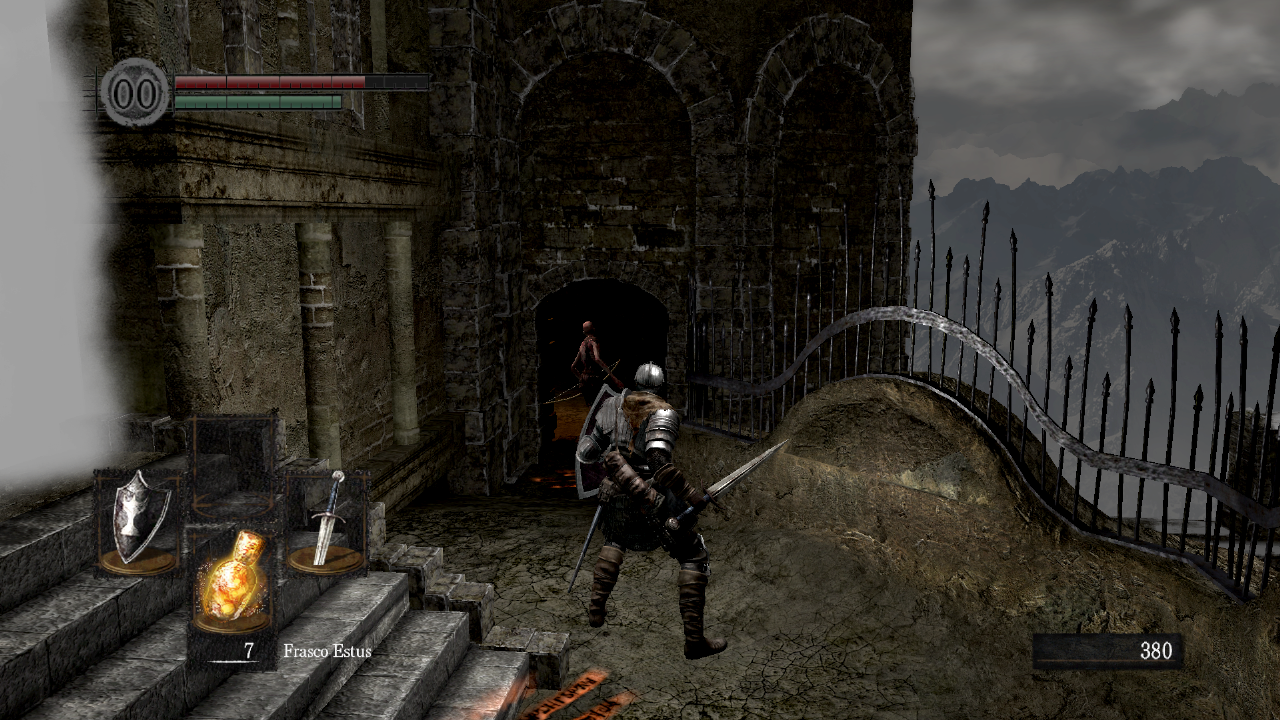hollow: (542, 321, 625, 412)
player: (567, 359, 792, 659)
